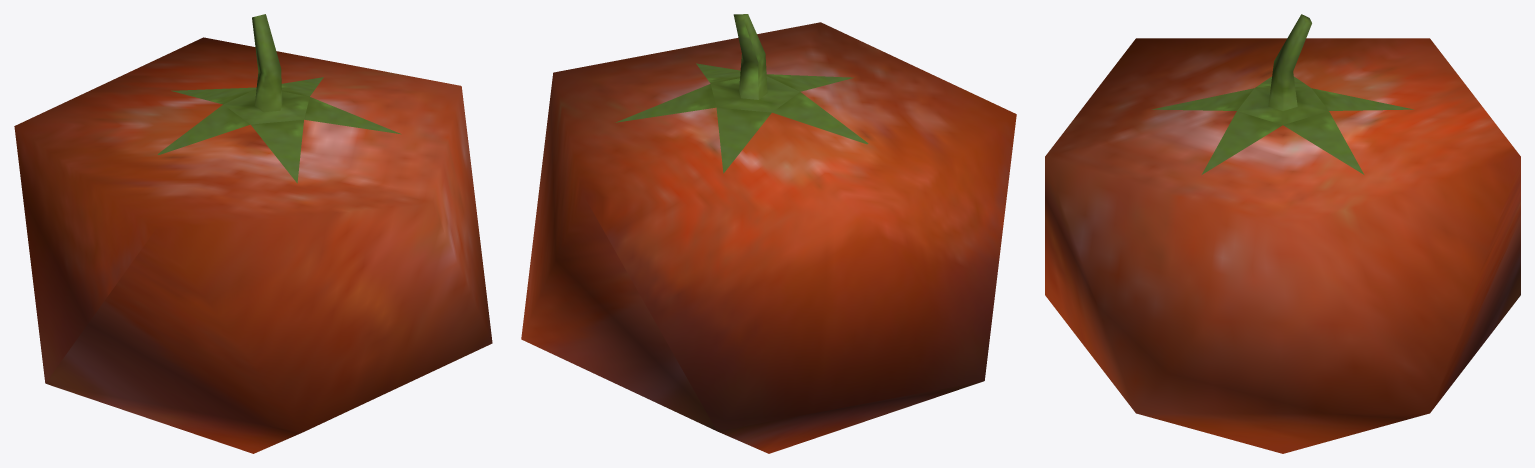
File: veg-tomato.glb
3 renders of one model, left to right at view 1: azimuth 30°, elevation 25°; view 2: azimuth 150°, elevation 25°; view 3: azimuth 270°, elevation 25°, orthographic. The views are drawn at different scales.
Visible parts, largest first — view 1: veg-tomato; view 2: veg-tomato; view 3: veg-tomato.
Part boxes in pixels (left/top/right/bottom): veg-tomato: left=14, top=14, right=492, bottom=453; veg-tomato: left=521, top=14, right=1016, bottom=453; veg-tomato: left=1045, top=14, right=1520, bottom=453.
Size of the model in its own units: 0.1225 by 0.1204 by 0.1165.
1 material, 1 textured.
